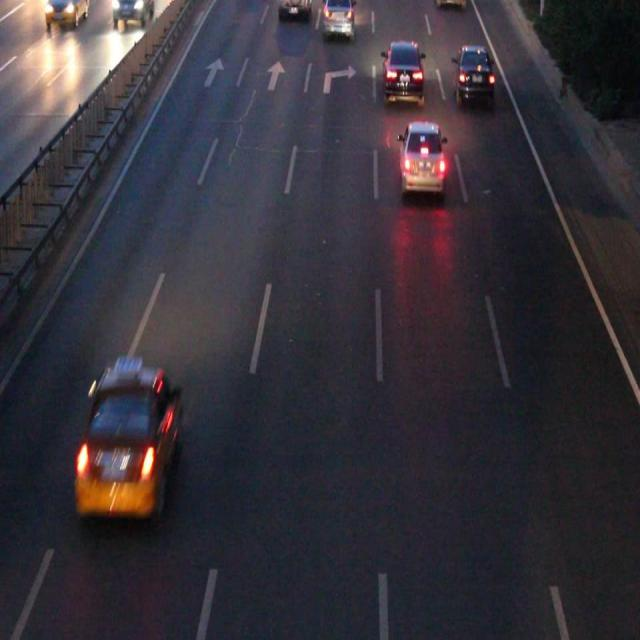car: (76, 366, 179, 515), (398, 126, 442, 190), (383, 40, 422, 100), (454, 47, 492, 102), (323, 1, 353, 36), (278, 1, 309, 18)
